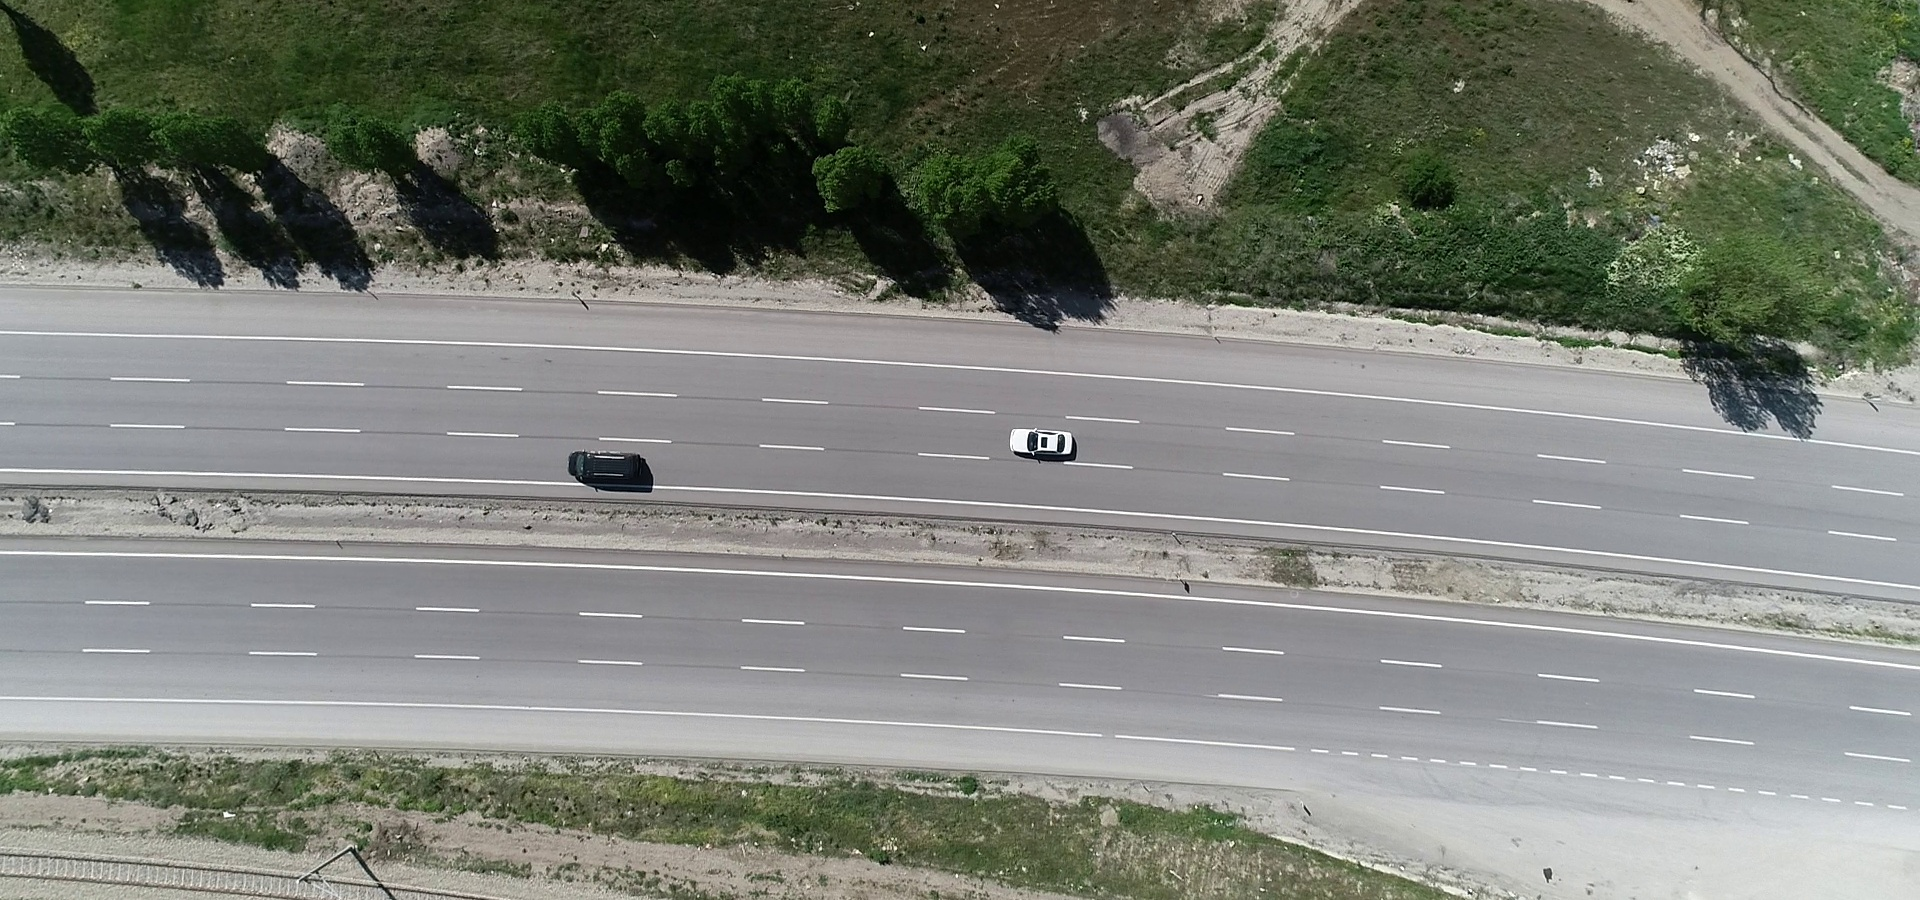arac: (560, 449, 664, 492), (1003, 426, 1080, 460)
